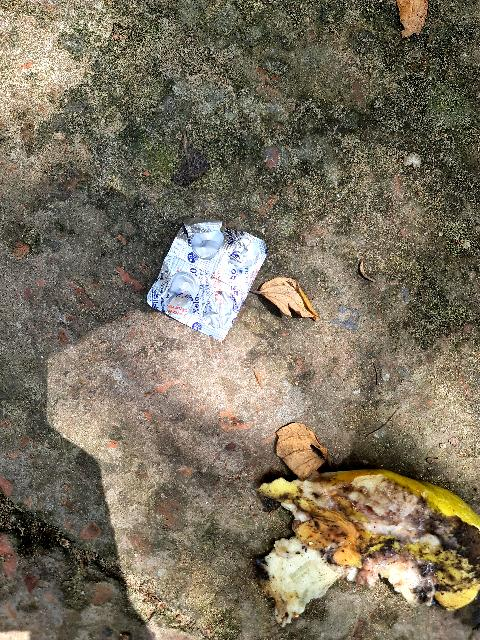medicine: (135, 200, 280, 351)
